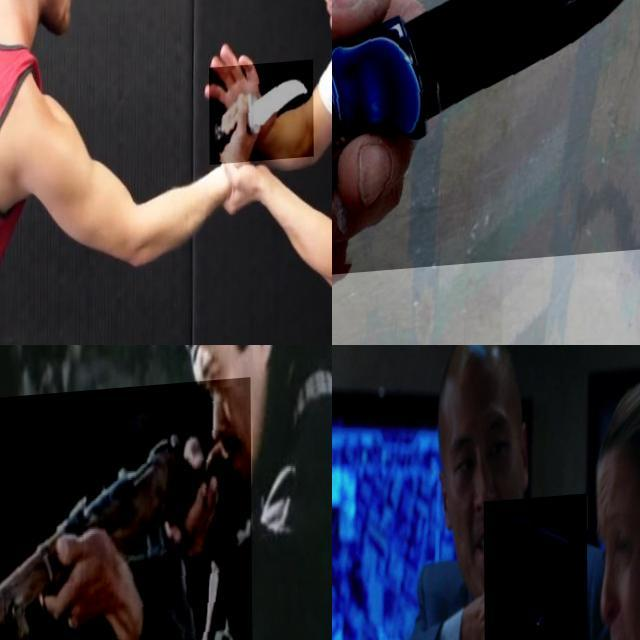-: (332, 0, 640, 283), (209, 68, 313, 171)
gun-knife-thesis - v11 Yolov5 augmented: (0, 385, 252, 640), (483, 497, 587, 640)
